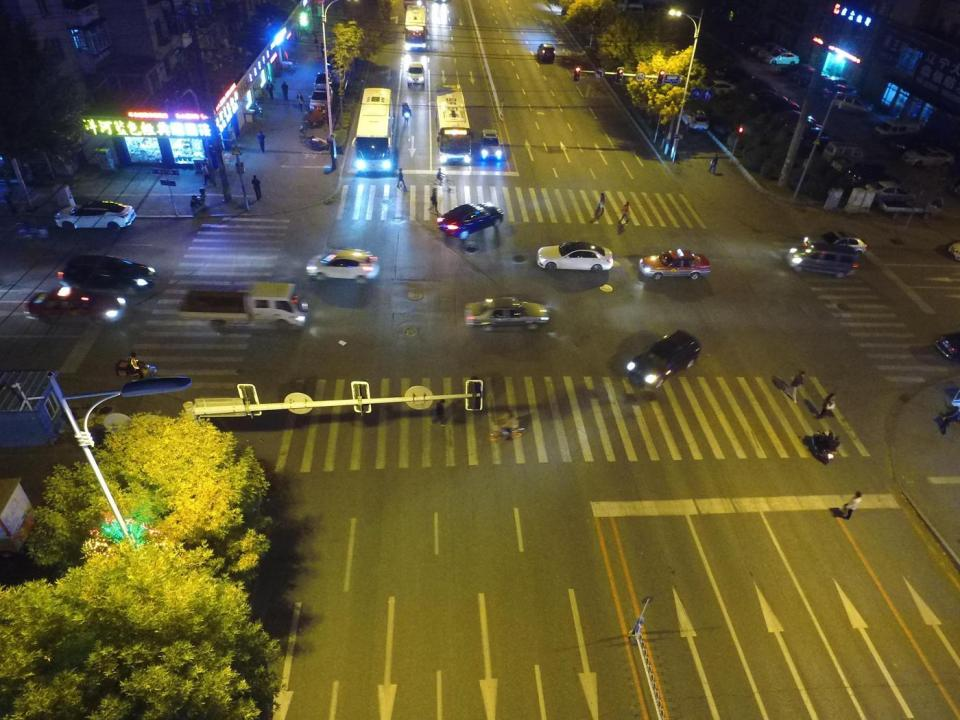bus: (352, 86, 397, 174), (432, 84, 471, 166), (404, 6, 428, 52)
car: (628, 330, 702, 391), (56, 254, 156, 293), (24, 288, 128, 324), (465, 298, 549, 330), (535, 241, 612, 274), (639, 248, 711, 281), (436, 202, 502, 238), (307, 251, 379, 283), (787, 244, 859, 276), (55, 202, 137, 230), (804, 230, 866, 257), (674, 102, 710, 133), (902, 145, 954, 166), (865, 182, 914, 202), (846, 167, 895, 185), (478, 130, 504, 160), (697, 80, 736, 98), (763, 48, 799, 66), (308, 90, 332, 112), (406, 63, 424, 89), (536, 41, 556, 63), (834, 97, 867, 110), (313, 72, 334, 92)
truck: (172, 282, 308, 331), (880, 190, 942, 219)
van: (823, 140, 865, 166), (874, 120, 920, 139)
